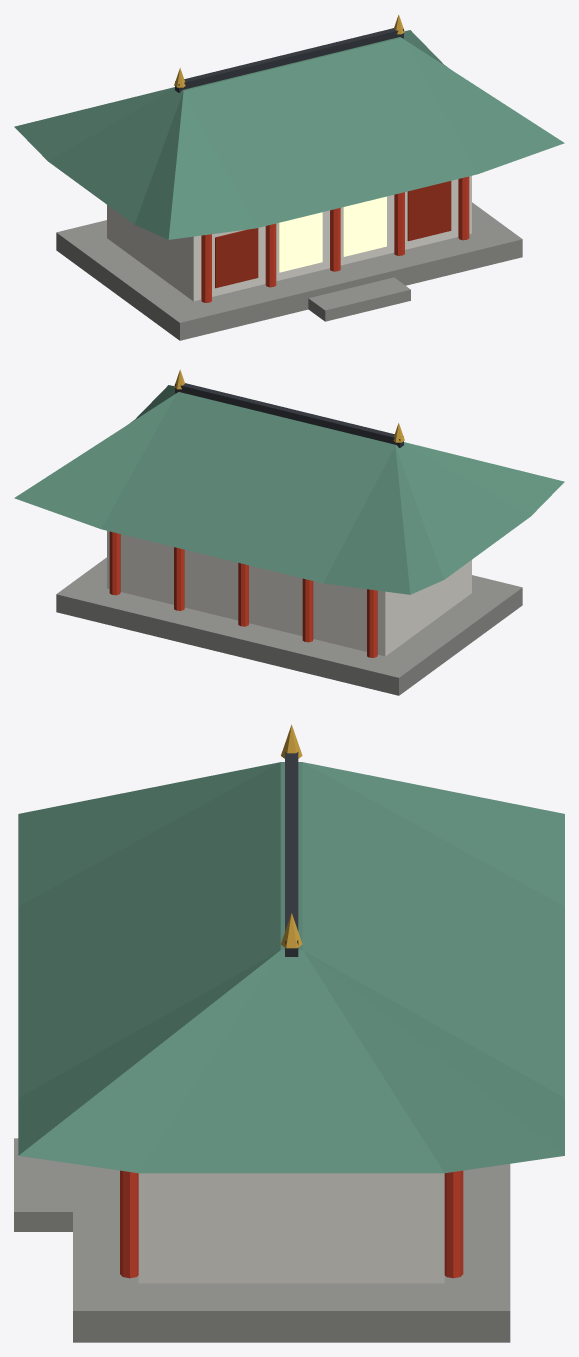
File: tempelhall.glb
3 views of the same model, one above another, from view 1: azimuth 30°, elevation 25°; view 2: azimuth 150°, elevation 25°; view 3: azimuth 270°, elevation 25° (orthographic). The views are drawn at different scales.
Parts seen in each view (by area): view 1: tempelhall; view 2: tempelhall; view 3: tempelhall.
Part boxes in pixels (bbox=[...]): tempelhall: bbox=[14, 14, 564, 340]; tempelhall: bbox=[14, 369, 564, 695]; tempelhall: bbox=[14, 724, 564, 1342].
Size of the model in its own units: 37 by 19 by 25.2.
